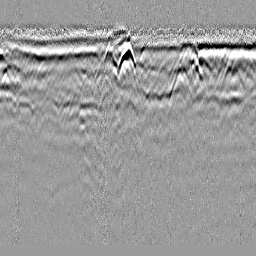cavity: (115, 40, 137, 75)
